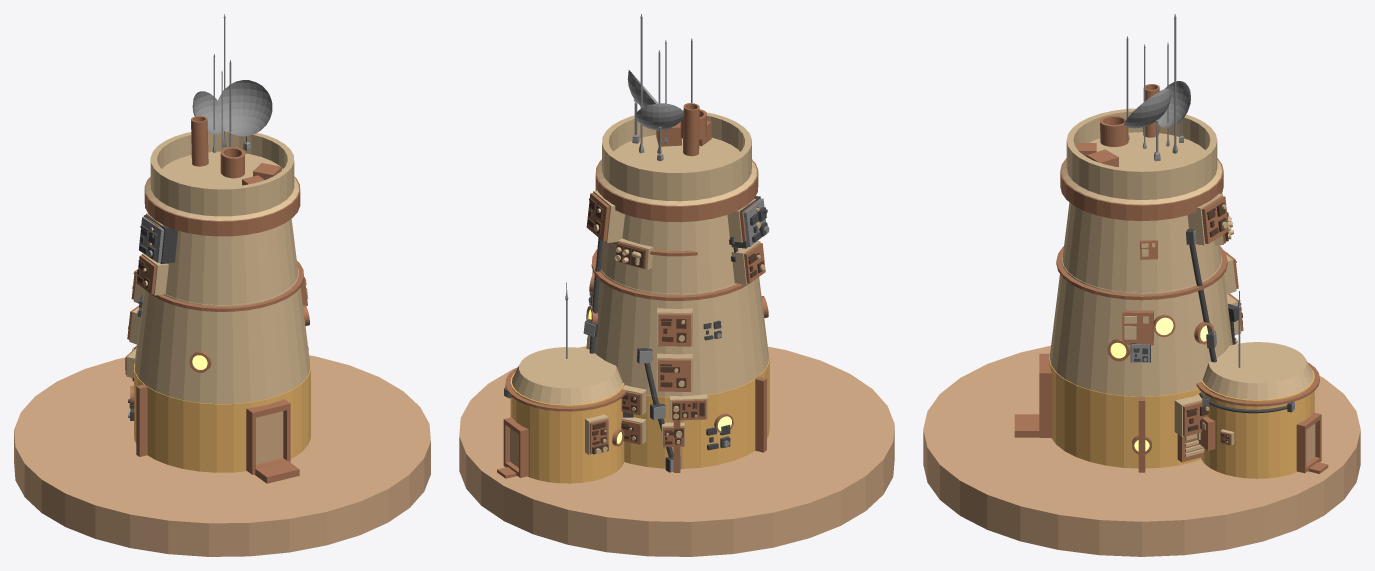
The model's file is nomad_building_17.fbx.
3 views of the same model, side by side, from view 1: azimuth 30°, elevation 25°; view 2: azimuth 150°, elevation 25°; view 3: azimuth 270°, elevation 25° (orthographic). The views are drawn at different scales.
Visible parts, largest first — view 1: B17_M_Foundation_foundation, B17_M_Drum1, B17_M_Crown_RoofDeck_Ringwall, B17_M_Drum0, B17_M_Drum2, B17_M_Ring20_TowerTrim_BandWide, B17_M_Dish1_AntennaDish_Reflector, B17_M_Door_Door_Frame, B17_M_Door_Door_Leaf, B17_M_Ring10_TowerTrim_BandThin, B17_M_Stack1_TowerBody_StackNarrow, B17_M_Pilaster4_TowerTrim_Pilaster (+4 smaller); view 2: B17_M_Foundation_foundation, B17_M_Drum1, B17_M_Crown_RoofDeck_Ringwall, B17_M_Drum2, B17_A1_Drum0, B17_M_Drum0, B17_A1_Crown_TowerBody_RoofCap, B17_M_Ring20_TowerTrim_BandWide, B17_M_Ring10_TowerTrim_BandThin, B17_A1_Door_Door_Frame, B17_M_Dish0_AntennaDish_Reflector, B17_M_Pilaster4_TowerTrim_Pilaster (+6 smaller); view 3: B17_M_Foundation_foundation, B17_M_Drum1, B17_M_Crown_RoofDeck_Ringwall, B17_M_Drum2, B17_M_Drum0, B17_A1_Drum0, B17_A1_Crown_TowerBody_RoofCap, B17_M_Ring20_TowerTrim_BandWide, B17_M_Ring10_TowerTrim_BandThin, B17_M_Door_Door_Frame, B17_A1_Door_Door_Frame, B17_M_Dish1_AntennaDish_Reflector (+8 smaller).
Part boxes in pixels (left/top/right/bottom): B17_M_Foundation_foundation: left=14, top=355, right=430, bottom=556; B17_M_Drum1: left=134, top=268, right=310, bottom=403; B17_M_Crown_RoofDeck_Ringwall: left=146, top=129, right=298, bottom=220; B17_M_Drum0: left=134, top=361, right=310, bottom=472; B17_M_Drum2: left=165, top=219, right=298, bottom=304; B17_M_Ring20_TowerTrim_BandWide: left=144, top=176, right=300, bottom=236; B17_M_Dish1_AntennaDish_Reflector: left=216, top=80, right=272, bottom=136; B17_M_Door_Door_Frame: left=246, top=399, right=290, bottom=474; B17_M_Door_Door_Leaf: left=256, top=411, right=283, bottom=464; B17_M_Ring10_TowerTrim_BandThin: left=151, top=261, right=303, bottom=311; B17_M_Stack1_TowerBody_StackNarrow: left=191, top=116, right=208, bottom=166; B17_M_Pilaster4_TowerTrim_Pilaster: left=136, top=384, right=147, bottom=456; B17_M_Foundation_foundation: left=459, top=346, right=894, bottom=556; B17_M_Drum1: left=586, top=270, right=768, bottom=396; B17_M_Crown_RoofDeck_Ringwall: left=597, top=110, right=756, bottom=205; B17_M_Drum2: left=601, top=214, right=738, bottom=293; B17_A1_Drum0: left=510, top=372, right=624, bottom=483; B17_M_Drum0: left=624, top=354, right=769, bottom=468; B17_A1_Crown_TowerBody_RoofCap: left=512, top=347, right=622, bottom=404; B17_M_Ring20_TowerTrim_BandWide: left=595, top=159, right=758, bottom=222; B17_M_Ring10_TowerTrim_BandThin: left=591, top=249, right=751, bottom=300; B17_A1_Door_Door_Frame: left=503, top=417, right=528, bottom=477; B17_M_Dish0_AntennaDish_Reflector: left=635, top=103, right=684, bottom=130; B17_M_Pilaster4_TowerTrim_Pilaster: left=755, top=376, right=766, bottom=452; B17_M_Foundation_foundation: left=923, top=345, right=1360, bottom=556; B17_M_Drum1: left=1049, top=255, right=1232, bottom=396; B17_M_Crown_RoofDeck_Ringwall: left=1061, top=108, right=1222, bottom=204; B17_M_Drum2: left=1062, top=202, right=1221, bottom=292; B17_M_Drum0: left=1049, top=354, right=1201, bottom=468; B17_A1_Drum0: left=1201, top=367, right=1314, bottom=478; B17_A1_Crown_TowerBody_RoofCap: left=1202, top=342, right=1313, bottom=399; B17_M_Ring20_TowerTrim_BandWide: left=1060, top=158, right=1223, bottom=220; B17_M_Ring10_TowerTrim_BandThin: left=1056, top=246, right=1227, bottom=300; B17_M_Door_Door_Frame: left=1039, top=353, right=1052, bottom=437; B17_A1_Door_Door_Frame: left=1296, top=412, right=1321, bottom=473; B17_M_Dish1_AntennaDish_Reflector: left=1124, top=88, right=1171, bottom=128.
Size of the model in its own units: 587 by 680 by 587.
